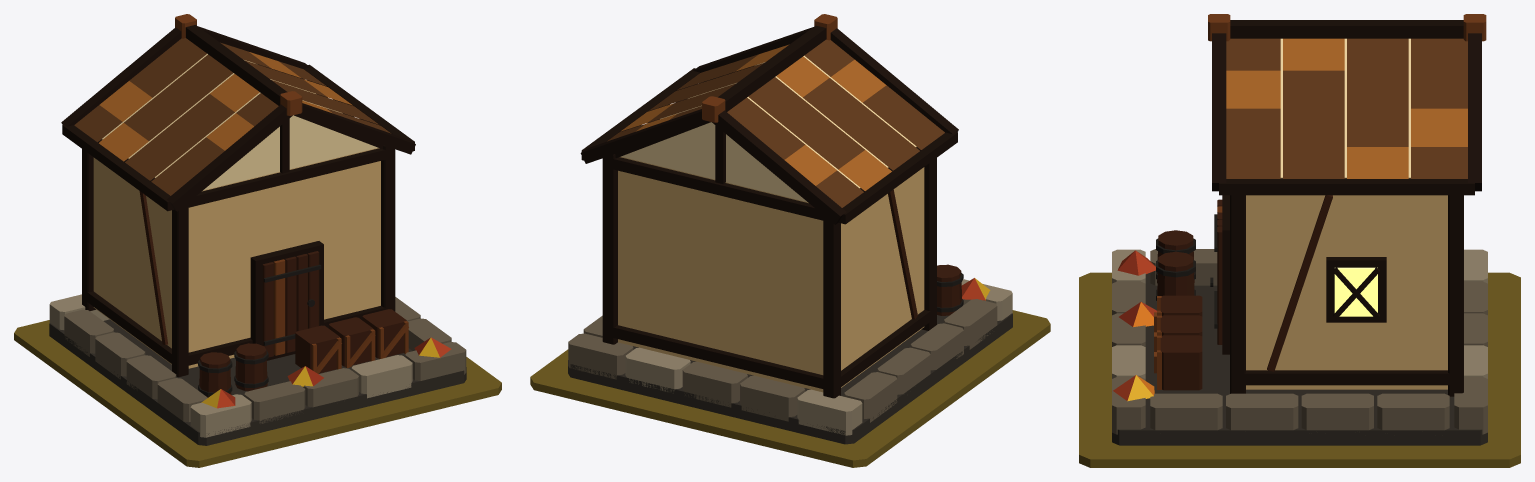
The model's file is storehouse_t3.glb.
3 renders of one model, left to right at view 1: azimuth 30°, elevation 25°; view 2: azimuth 150°, elevation 25°; view 3: azimuth 270°, elevation 25°, orthographic. The views are drawn at different scales.
Visible parts, largest first — view 1: MMR | storehouse | T03 Architecture.001, MMR | storehouse | Tier 03 Ground.001, MMR | storehouse | T03 Autumn Dressing.001; view 2: MMR | storehouse | T03 Architecture.001, MMR | storehouse | Tier 03 Ground.001; view 3: MMR | storehouse | T03 Architecture.001, MMR | storehouse | Tier 03 Ground.001, MMR | storehouse | T03 Autumn Dressing.001.
Part boxes in pixels (x1,y1,x2,y2): MMR | storehouse | T03 Architecture.001: (49,14,466,445); MMR | storehouse | Tier 03 Ground.001: (14,320,501,467); MMR | storehouse | T03 Autumn Dressing.001: (201,337,451,408); MMR | storehouse | T03 Architecture.001: (568,14,1012,444); MMR | storehouse | Tier 03 Ground.001: (530,310,1050,467); MMR | storehouse | T03 Architecture.001: (1112,14,1487,445); MMR | storehouse | Tier 03 Ground.001: (1079,272,1520,467); MMR | storehouse | T03 Autumn Dressing.001: (1111,250,1156,401).
Bounding box in the file's own units: 2.35 × 2.09 × 2.35.
Materials: 2 (1 with a texture image).
